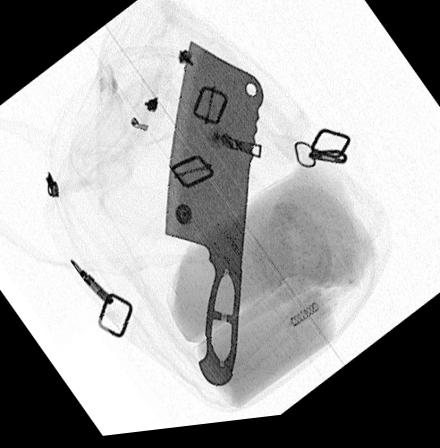Knife: (164, 45, 263, 393)
